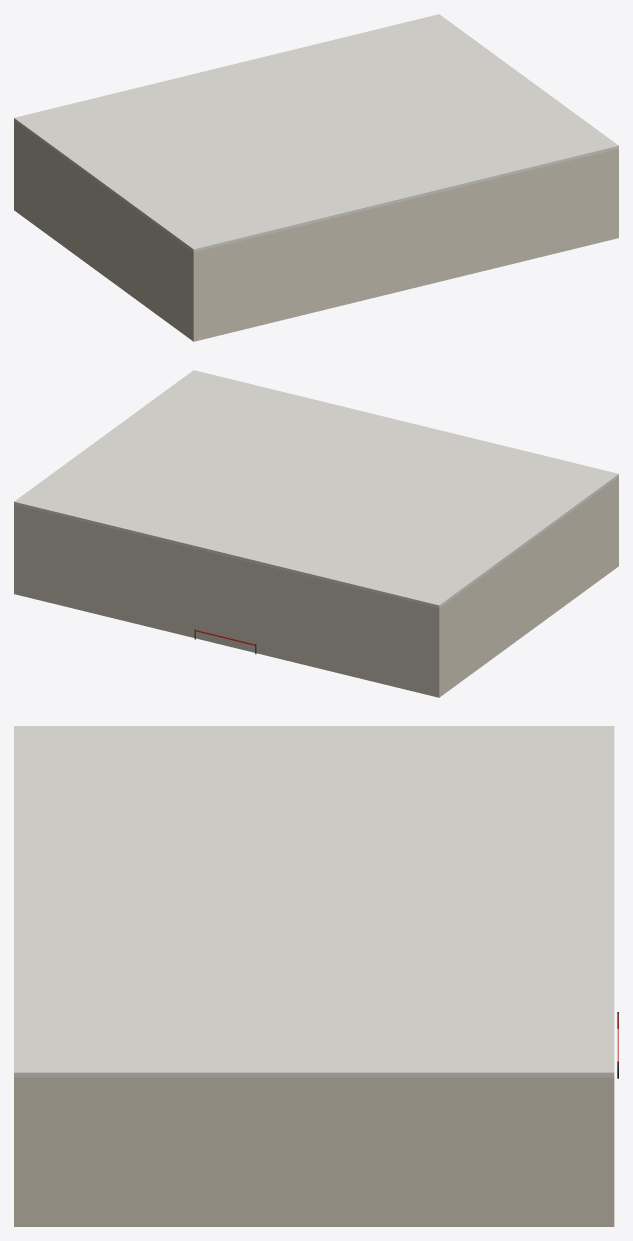
The model's file is arena_atrium.glb.
3 renders of one model, top to bottom at view 1: azimuth 30°, elevation 25°; view 2: azimuth 150°, elevation 25°; view 3: azimuth 270°, elevation 25°, orthographic. The views are drawn at different scales.
Visible parts, largest first — view 1: Walls; view 2: Walls; view 3: Walls.
Part boxes in pixels (x1,y1,x2,y2): Walls: [14, 14, 618, 341]; Walls: [14, 370, 618, 697]; Walls: [14, 726, 614, 1226].
Bounding box in the file's own units: 44.8 × 9.3 × 33.05.
